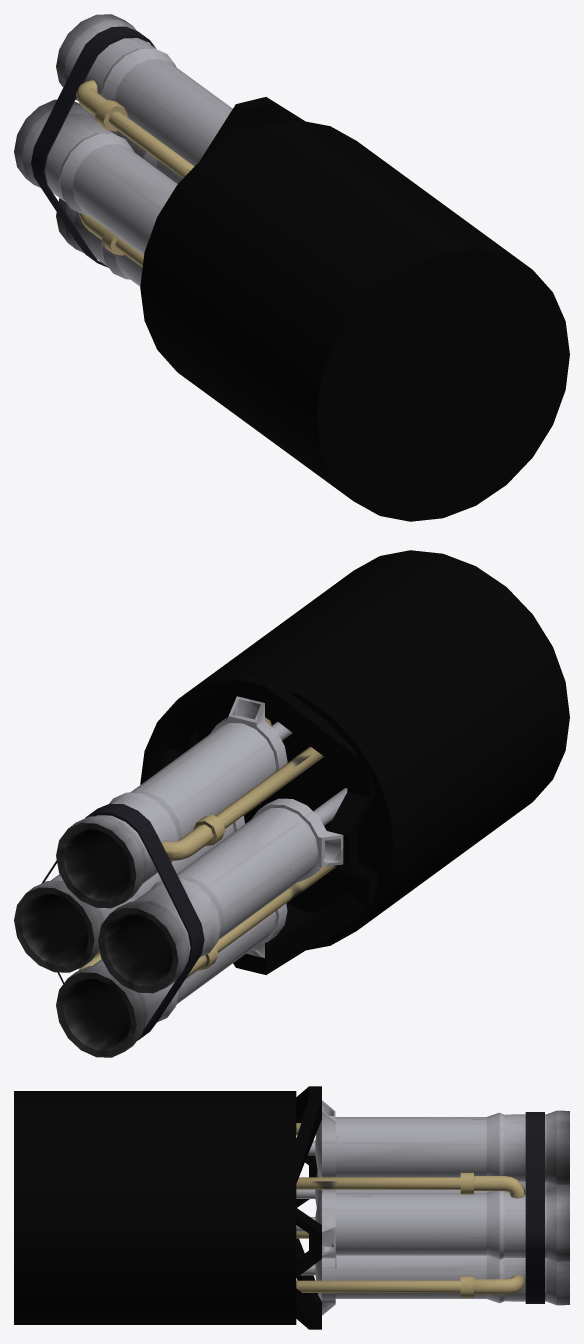
Rendered from hexelr.sturdy.gltf.
3 renders of one model, top to bottom at view 1: azimuth 30°, elevation 25°; view 2: azimuth 150°, elevation 25°; view 3: azimuth 270°, elevation 25°, orthographic. The views are drawn at different scales.
Parts seen in each view (by area): view 1: TopCylinder, Nozzle3, Nozzle0, Strap, Nozzle2; view 2: TopCylinder, Nozzle0, Nozzle3, Nozzle2, Nozzle1, Strap; view 3: TopCylinder, Nozzle1, Nozzle3, Nozzle2, Strap, Nozzle0.
Part boxes in pixels (x1,y1,x2,y2): TopCylinder: [140, 97, 569, 521]; Nozzle3: [56, 14, 232, 178]; Nozzle0: [14, 99, 177, 267]; Strap: [31, 26, 155, 267]; Nozzle2: [56, 198, 142, 286]; TopCylinder: [140, 550, 569, 974]; Nozzle0: [98, 788, 347, 993]; Nozzle3: [56, 696, 323, 908]; Nozzle2: [56, 903, 287, 1057]; Nozzle1: [14, 717, 271, 972]; Strap: [41, 803, 204, 1040]; TopCylinder: [14, 1086, 321, 1329]; Nozzle1: [296, 1172, 569, 1261]; Nozzle3: [296, 1100, 569, 1185]; Nozzle2: [296, 1255, 569, 1315]; Strap: [525, 1112, 544, 1303]; Nozzle0: [296, 1170, 569, 1238].
Bounding box in the file's own units: 0.663 × 0.7216 × 1.57.
3 materials, 1 textured.
